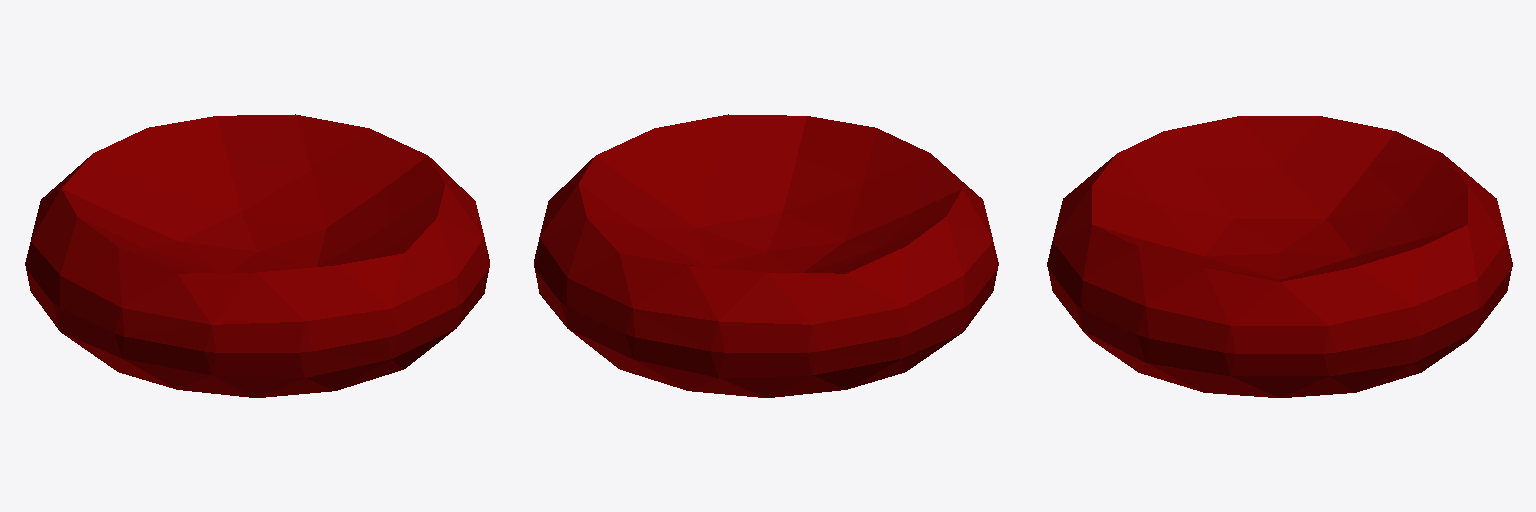
The model's file is hemacia.obj.
3 renders of one model, left to right at view 1: azimuth 30°, elevation 25°; view 2: azimuth 150°, elevation 25°; view 3: azimuth 270°, elevation 25°, orthographic.
Parts seen in each view (by area): view 1: GeoSphere001; view 2: GeoSphere001; view 3: GeoSphere001.
Part boxes in pixels (left/top/right/bottom): GeoSphere001: left=25, top=114, right=489, bottom=397; GeoSphere001: left=534, top=114, right=998, bottom=397; GeoSphere001: left=1047, top=116, right=1512, bottom=397.
Bounding box in the file's own units: 1.05 × 0.3144 × 1.06.